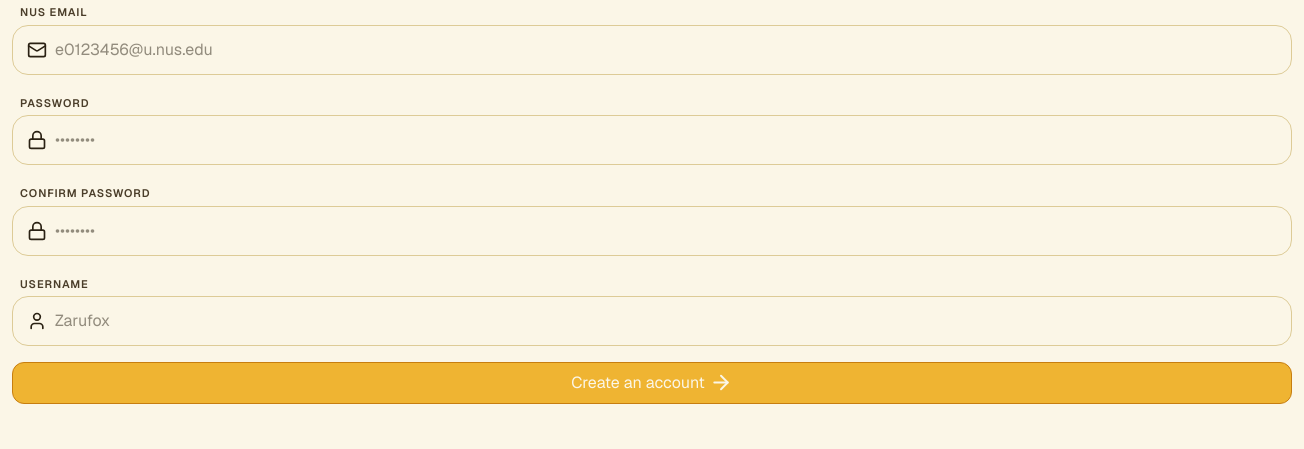
Test: RegisterForm › displays API error message on registration failure
Type "zarufox@u.nus.edu" into the field labelled "NUS EMAIL".
click(669, 50); type("zarufox@u.nus.edu")  # box x1=47 y1=30 x2=1291 y2=70
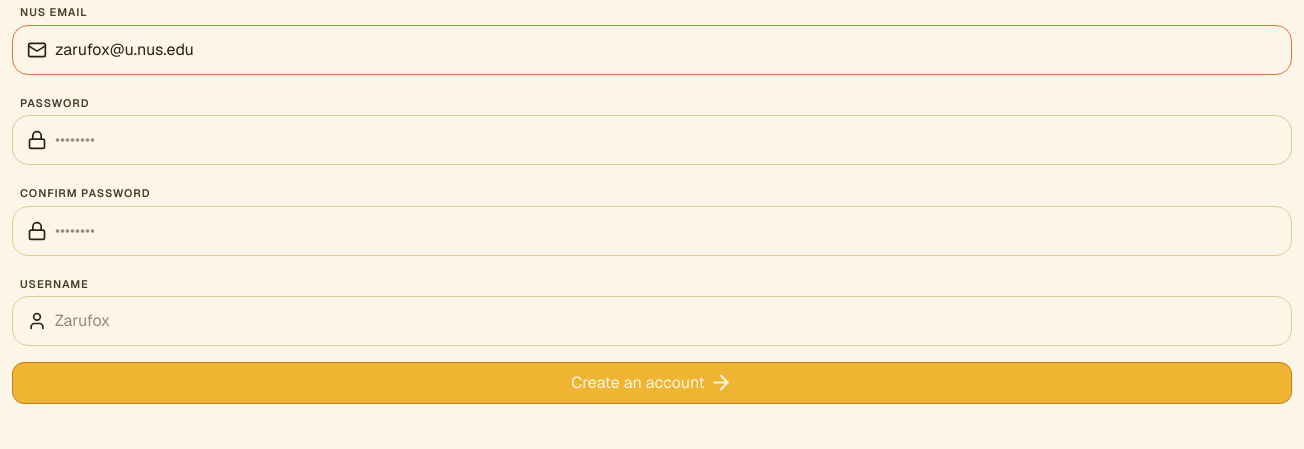
Type "password1234" into the password field labelled "PASSWORD".
click(669, 140); type("password1234")  # box x1=47 y1=120 x2=1291 y2=160
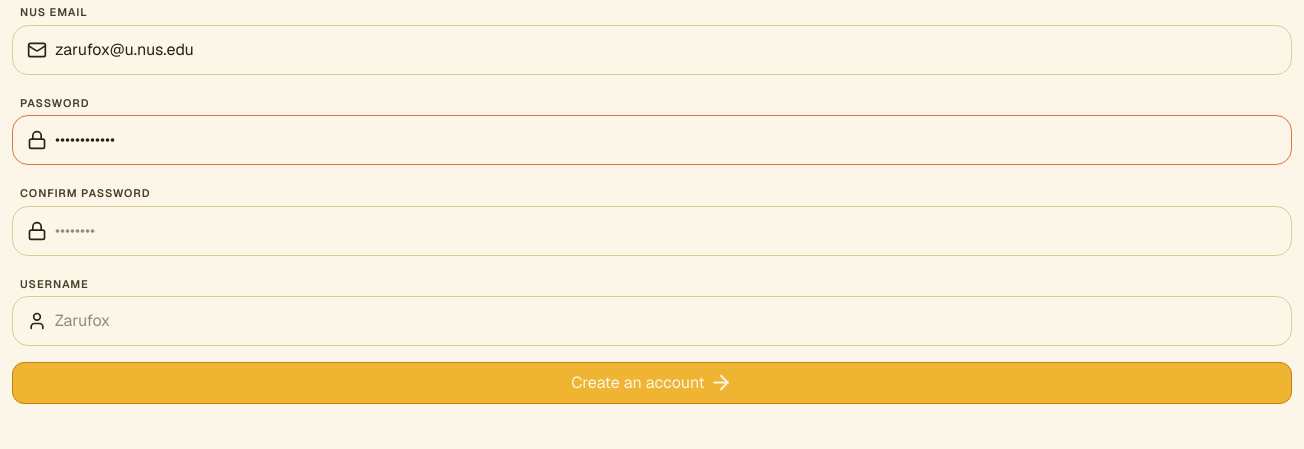
Type "password1234" into the password field labelled "CONFIRM PASSWORD".
click(669, 230); type("password1234")  # box x1=47 y1=210 x2=1291 y2=250
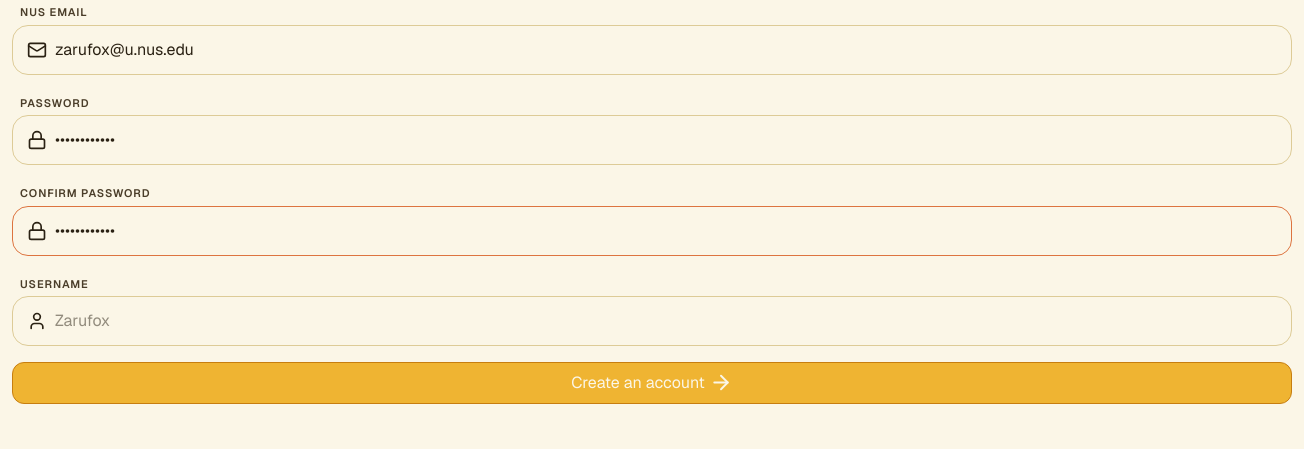
Type "Zaru" into the field labelled "USERNAME".
click(669, 321); type("Zaru")  # box x1=47 y1=301 x2=1291 y2=341
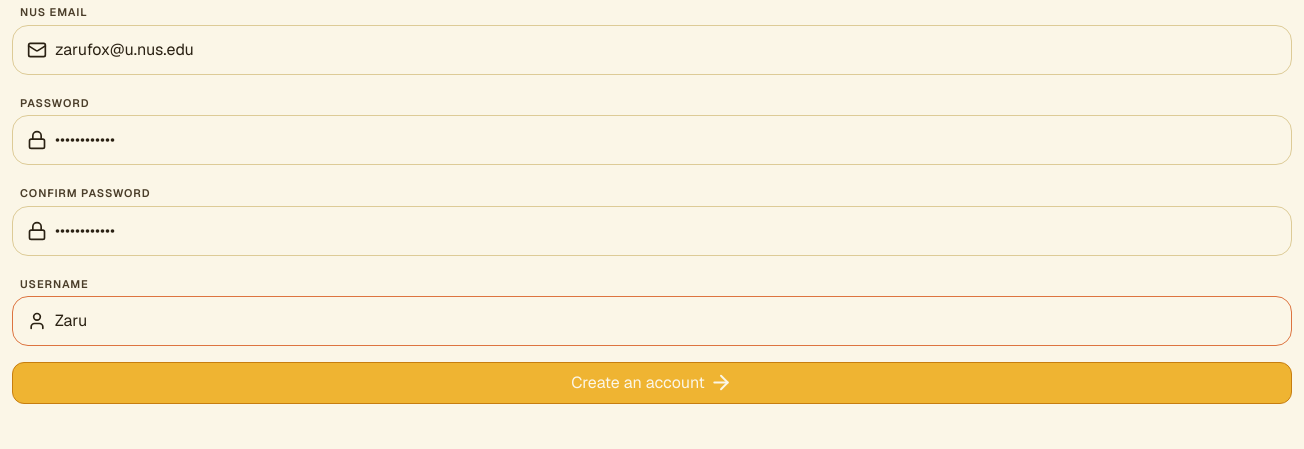
Click the button "Create an account".
click(652, 383)  # box x1=12 y1=362 x2=1292 y2=404
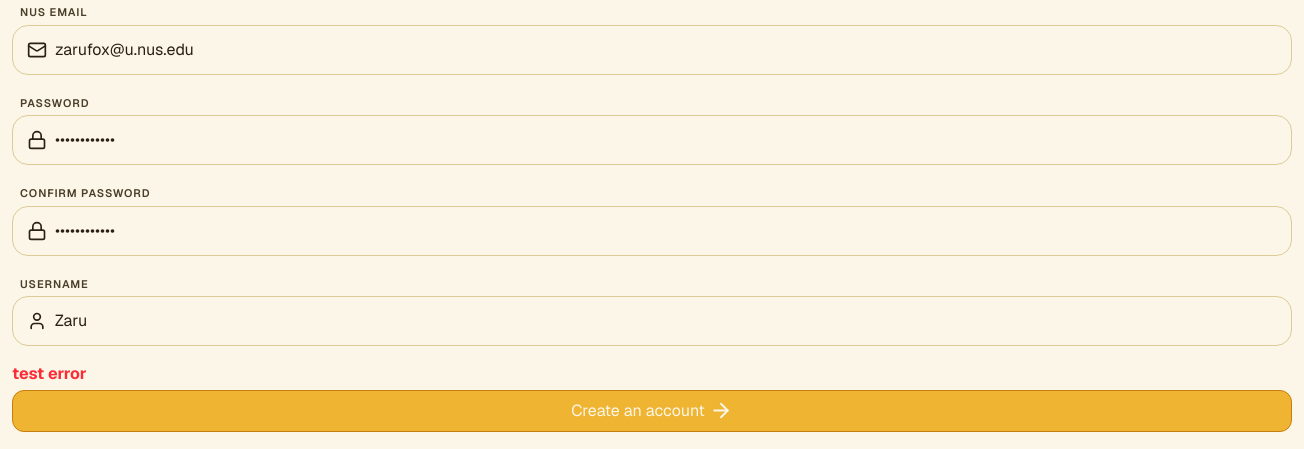
expect the text "test error" is shown: met, box x1=12 y1=363 x2=86 y2=384
